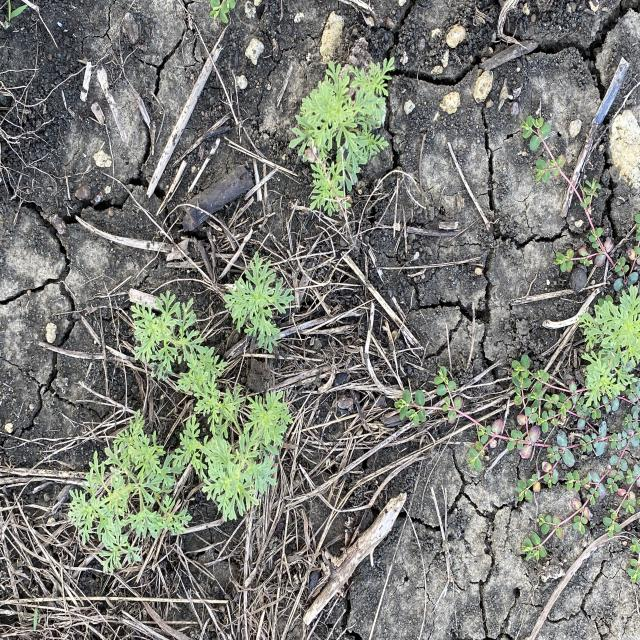Ragweed: (62, 289, 295, 578), (287, 50, 399, 221), (221, 247, 296, 356), (576, 281, 638, 410)
SpottedSpurge: (392, 351, 639, 584), (520, 111, 639, 295)
